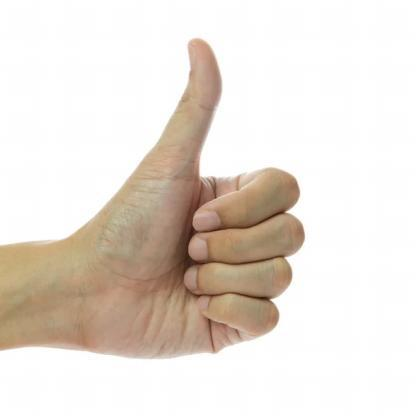thumb_up: (96, 35, 308, 360)
